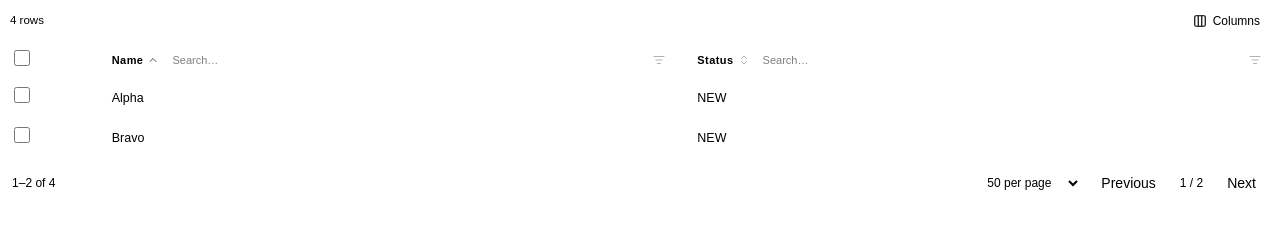
Test: DataTable selection + bulk edit › select-all only picks the rows on the current page
Click the checkbox named "Select all rows on this page": (22, 58) [14,50,30,66]
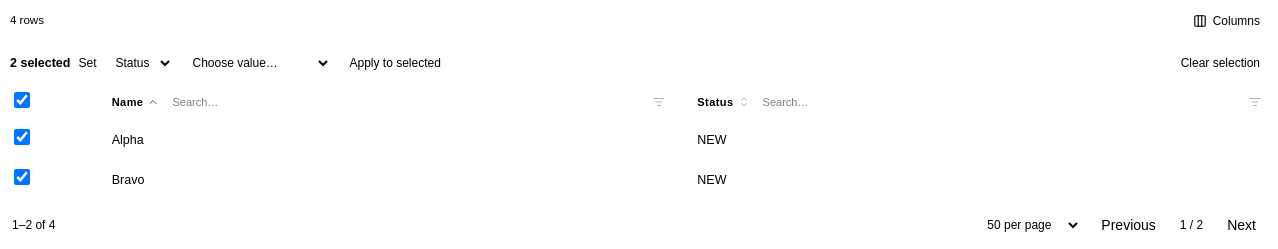
Result: the text "2 selected" is shown at [10,54,70,72]
